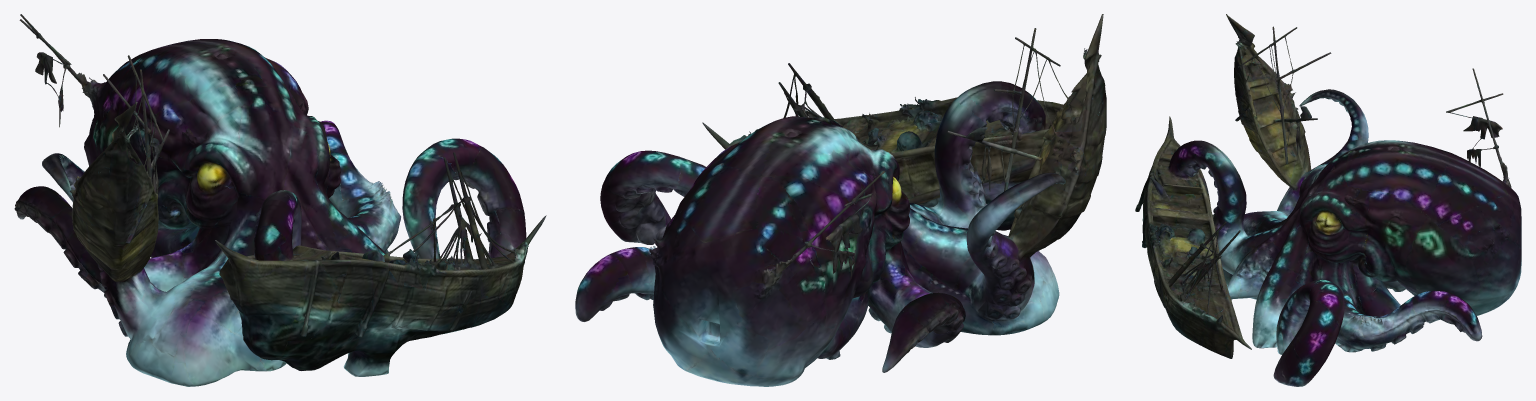
Rendered from mini_tcc8.glb.
The picture shows the model from 3 angles, left to right: view 1: azimuth 30°, elevation 25°; view 2: azimuth 150°, elevation 25°; view 3: azimuth 270°, elevation 25°; orthographic projection. The views are drawn at different scales.
Bounding box in the file's own units: 1.9 × 1.17 × 1.87.
Materials: 1 (1 with a texture image).
